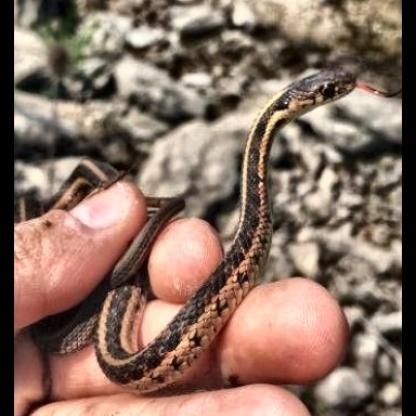Snake: (52, 64, 362, 385)
